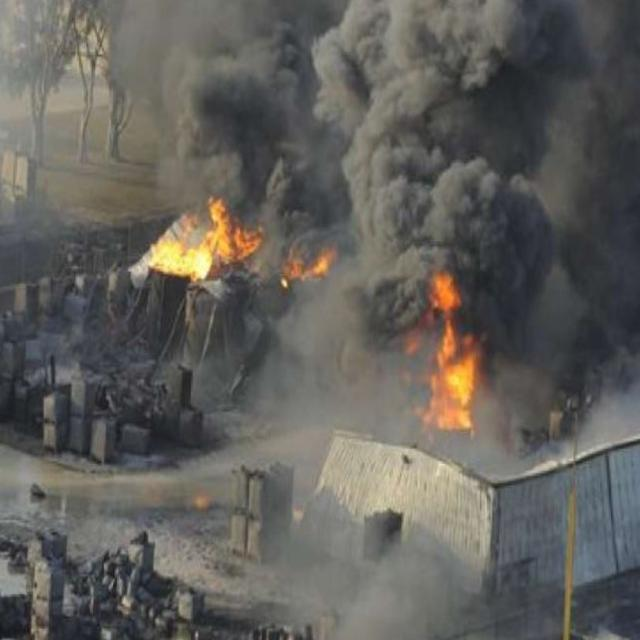Fire: (416, 274, 484, 440), (164, 209, 264, 294), (278, 252, 338, 292)
Smoke: (175, 6, 640, 388)
